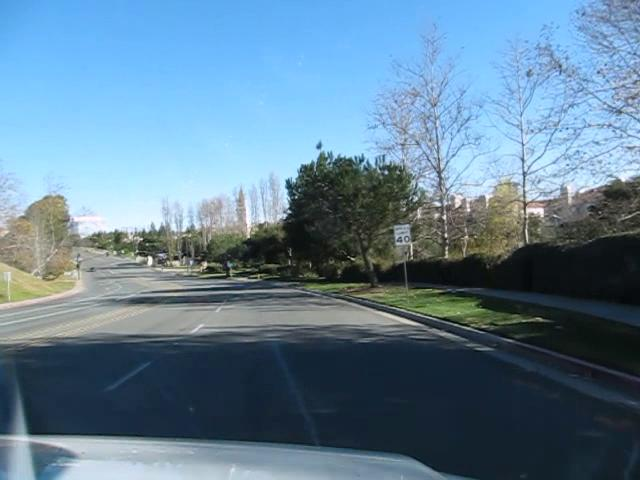speedLimit40: (393, 223, 413, 247)
